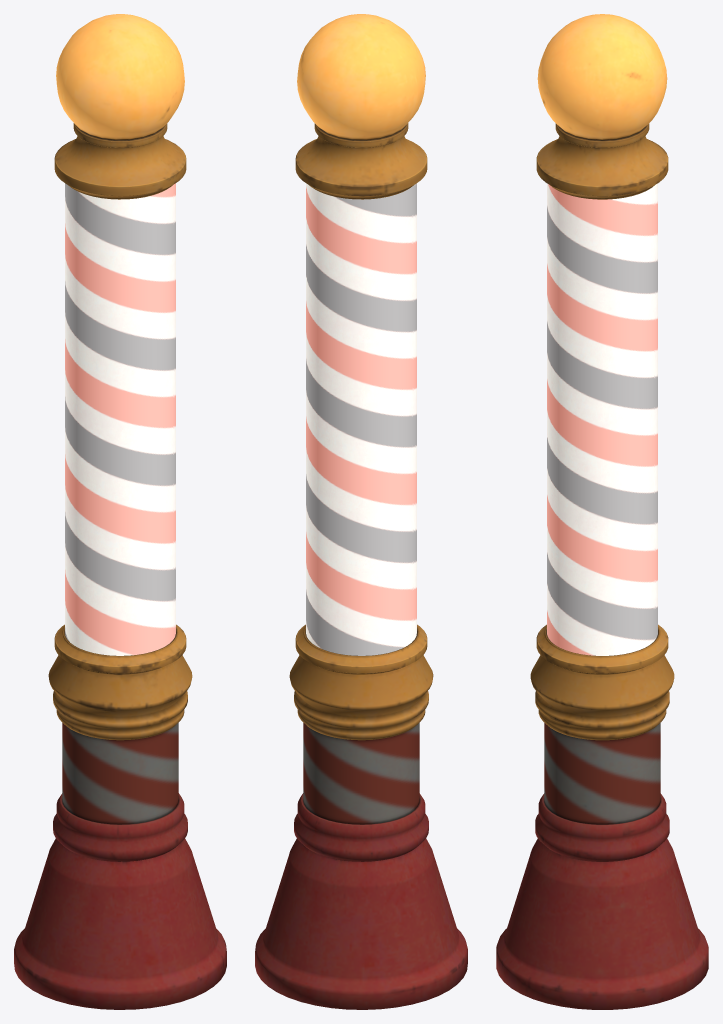
File: SM_LightPole_01.fbx
3 renders of one model, left to right at view 1: azimuth 30°, elevation 25°; view 2: azimuth 150°, elevation 25°; view 3: azimuth 270°, elevation 25°, orthographic.
Parts seen in each view (by area): view 1: SM_LightPole_01_LOD0; view 2: SM_LightPole_01_LOD0; view 3: SM_LightPole_01_LOD0.
Boxes of the visible parts, <box> form: SM_LightPole_01_LOD0: <box>14,14,226,1009</box>; SM_LightPole_01_LOD0: <box>255,14,467,1009</box>; SM_LightPole_01_LOD0: <box>496,14,708,1009</box>.
Size of the model in its own units: 41.29 by 41.29 by 203.
Materials: 2 (1 with a texture image).
